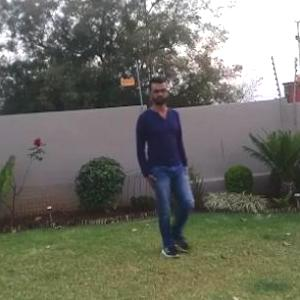follow: (122, 76, 184, 254)
